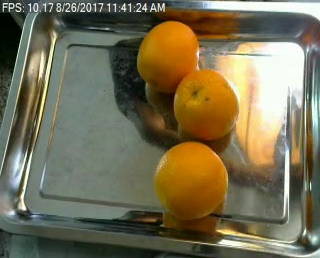Orange: (155, 140, 227, 220), (174, 70, 238, 141), (137, 19, 200, 91)
